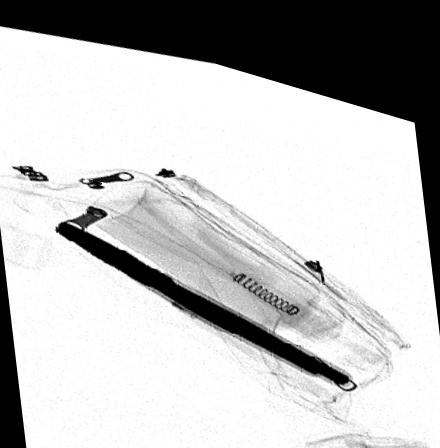Pliers: (50, 216, 348, 366)
